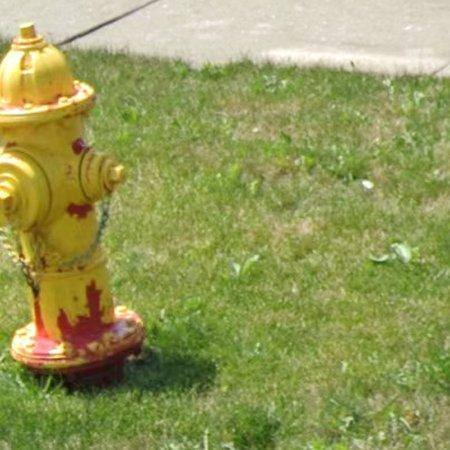a fire hydrant: (0, 24, 144, 384)
